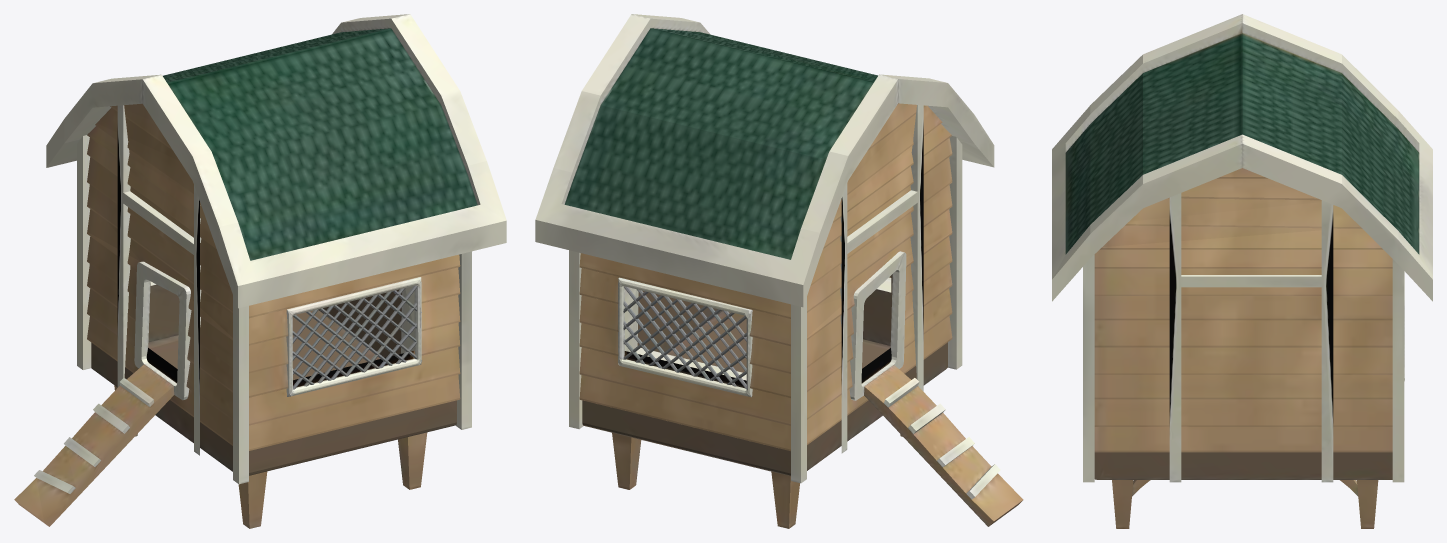
Rendered from chicken-coop.lod0.glb.
The picture shows the model from 3 angles, left to right: view 1: azimuth 30°, elevation 25°; view 2: azimuth 150°, elevation 25°; view 3: azimuth 270°, elevation 25°; orthographic projection.
Visible parts, largest first — view 1: Object_3; view 2: Object_3; view 3: Object_3.
Boxes of the visible parts, left/top/right/bottom form: Object_3: left=14, top=14, right=506, bottom=528; Object_3: left=535, top=14, right=1023, bottom=528; Object_3: left=1052, top=14, right=1432, bottom=528.
Size of the model in its own units: 3.5 by 3.64 by 3.05.
1 material, 1 textured.
